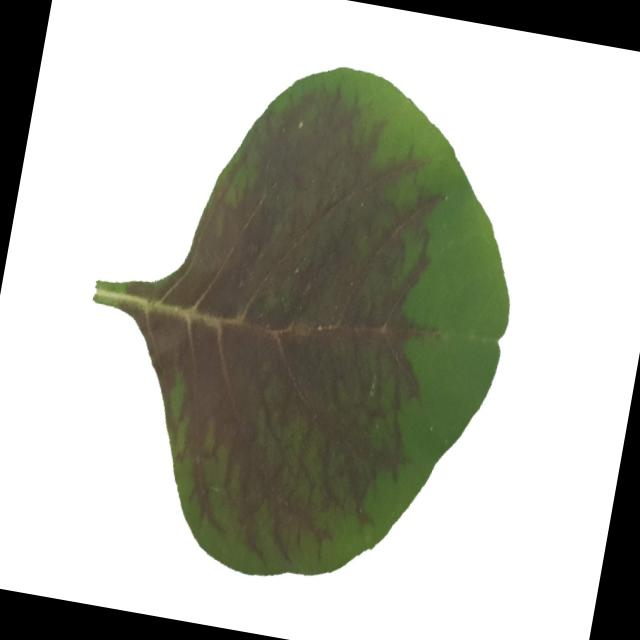Medicinal-Arive Dantu: (49, 29, 546, 610)
